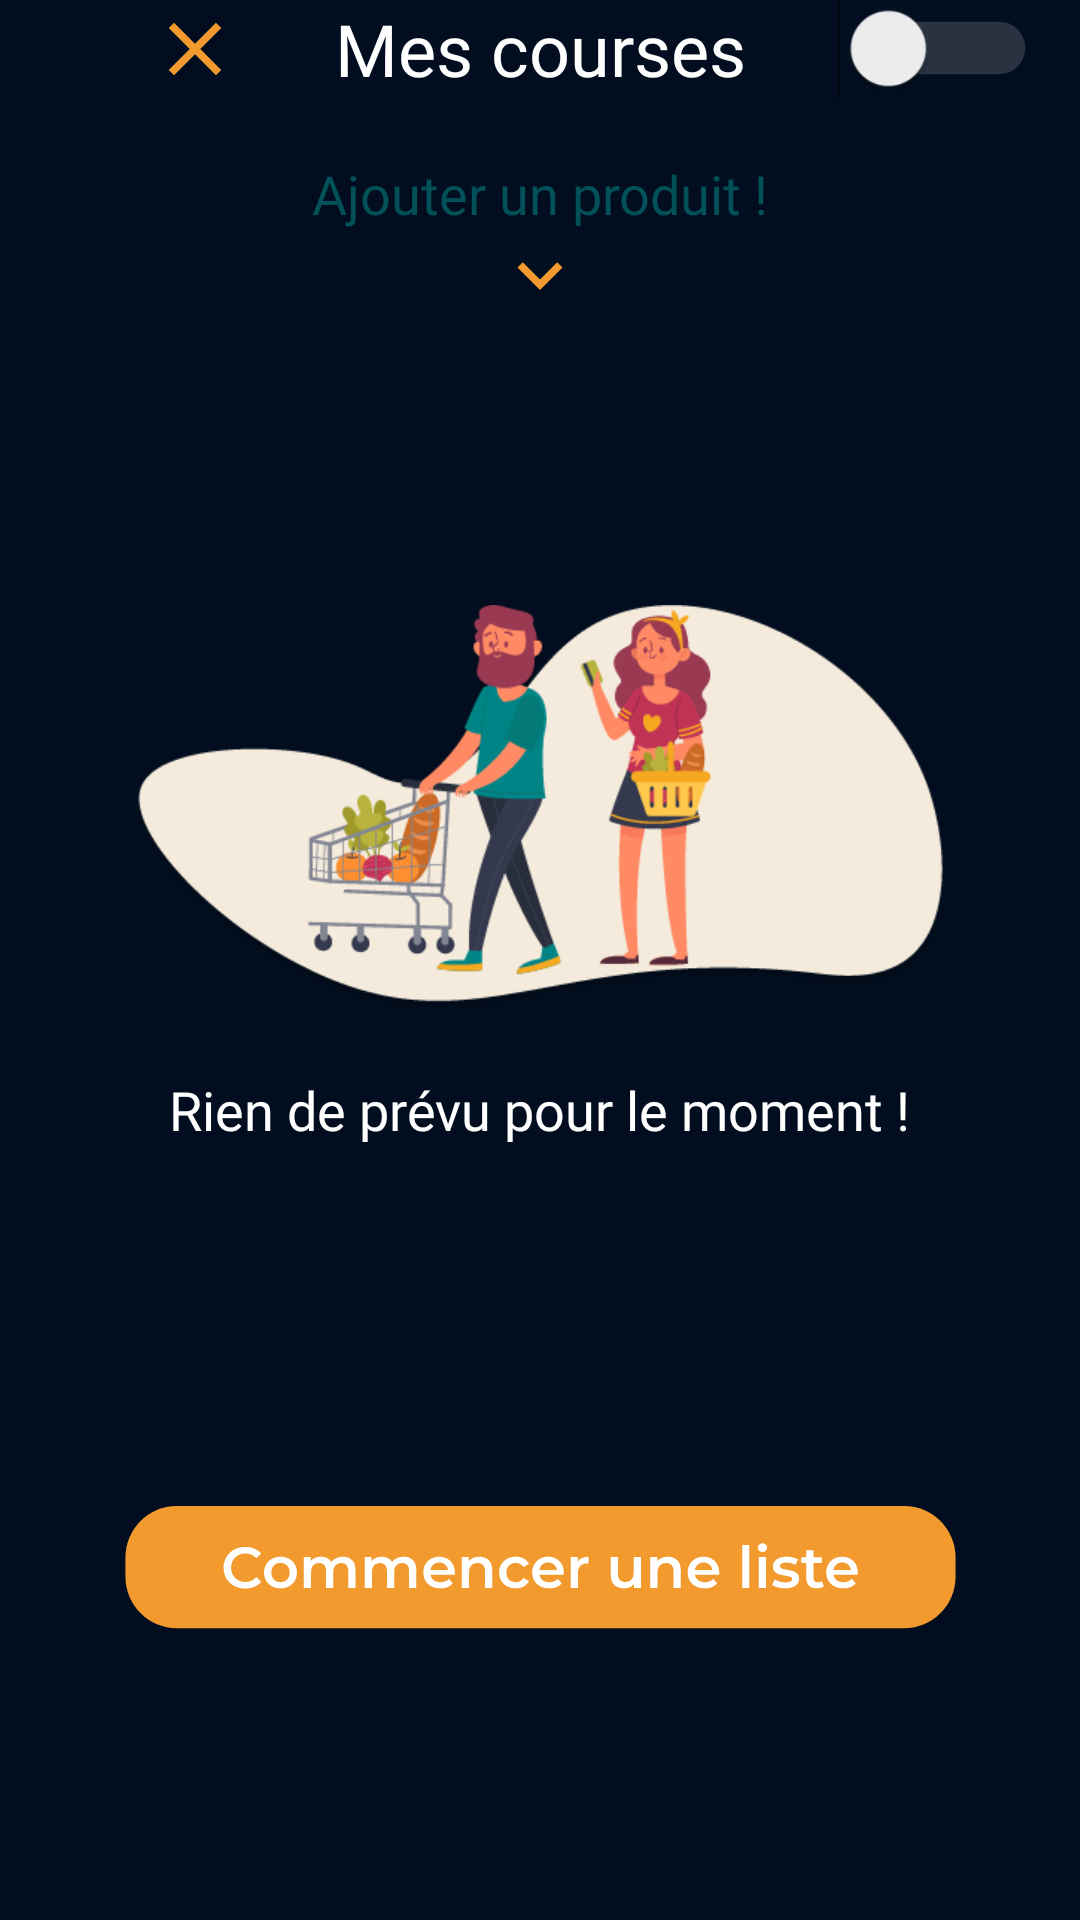

Where icons sit on this 1080px x 1920px app screen, as (x1=x1, y1=y1, x2=x2, y2=y2):
close: (x1=169, y1=23, x2=221, y2=75)
keyboard arrow down: (x1=517, y1=262, x2=563, y2=290)
